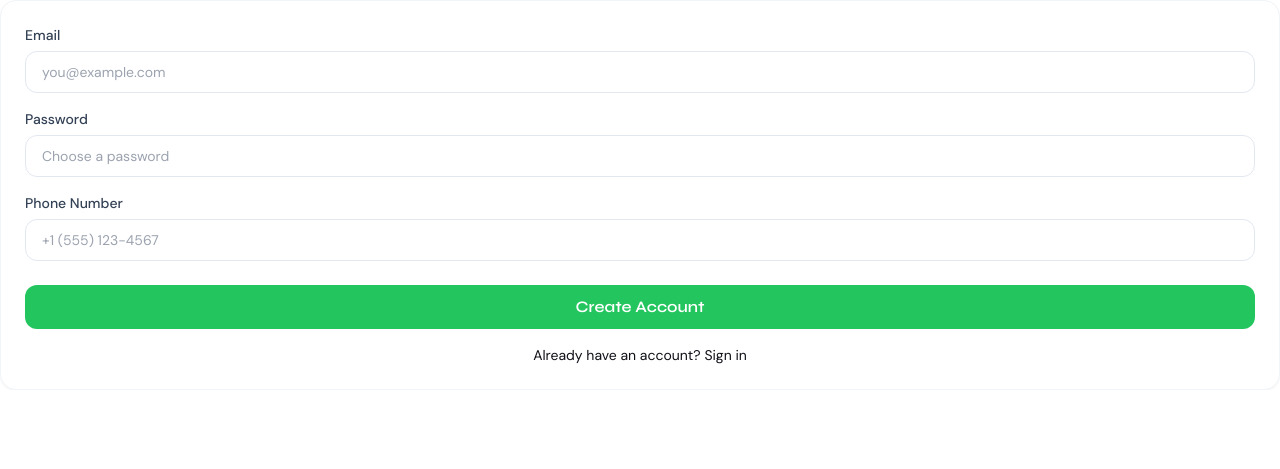
Scenario: auth flow › shows an error for duplicate signup email
Type "dupe@example.com" into the field with test id "auth-signup-email" at (640,72), box top-left (25, 51), bottom-right (1255, 93)
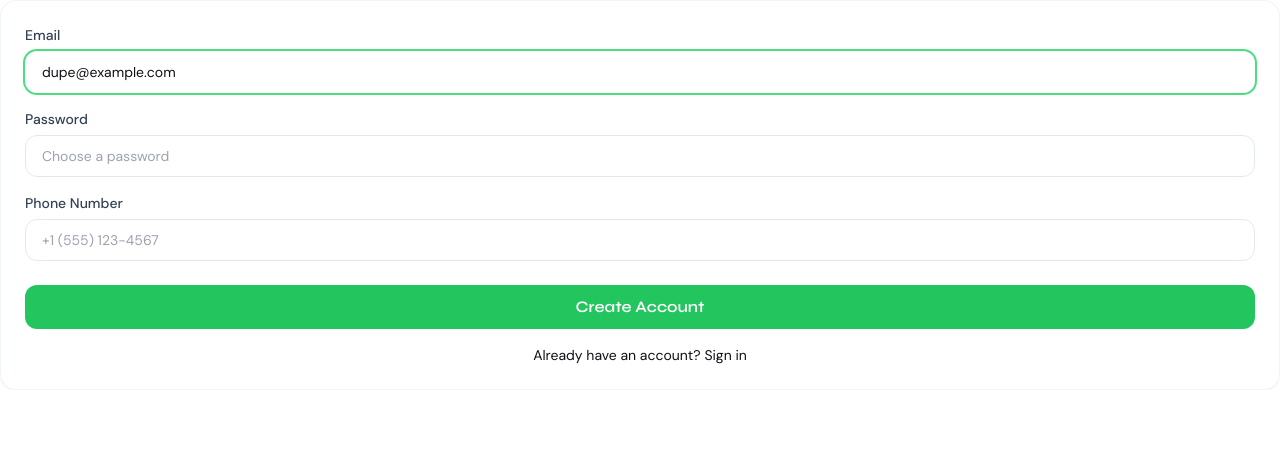
Type "password123" into the password field with test id "auth-signup-password" at (640,156), box top-left (25, 135), bottom-right (1255, 177)
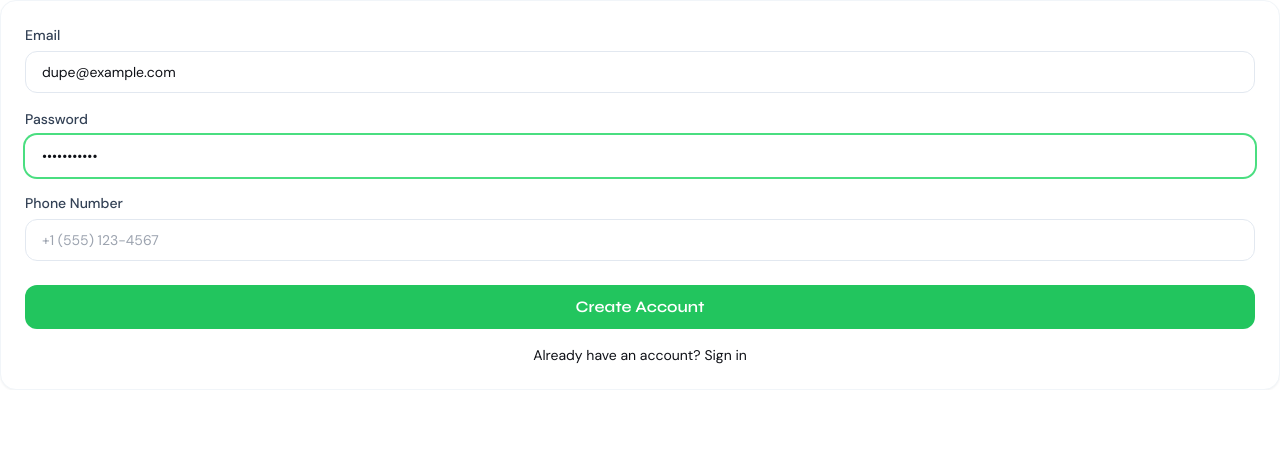
Click the button with test id "auth-signup-submit" at (640,307), box top-left (25, 285), bottom-right (1255, 329)
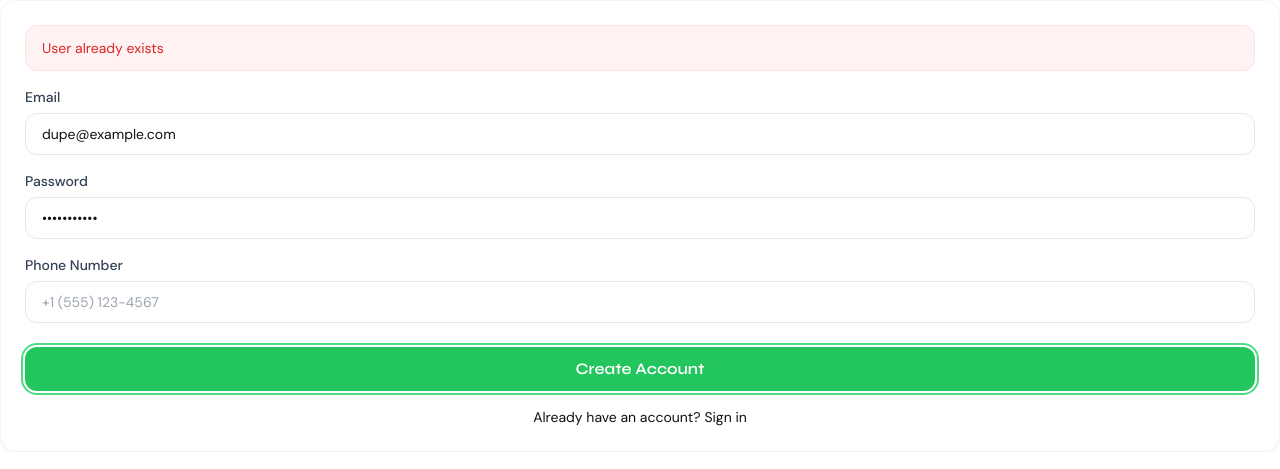
Check: the message reads "User already exists", box top-left (42, 39), bottom-right (164, 57)
